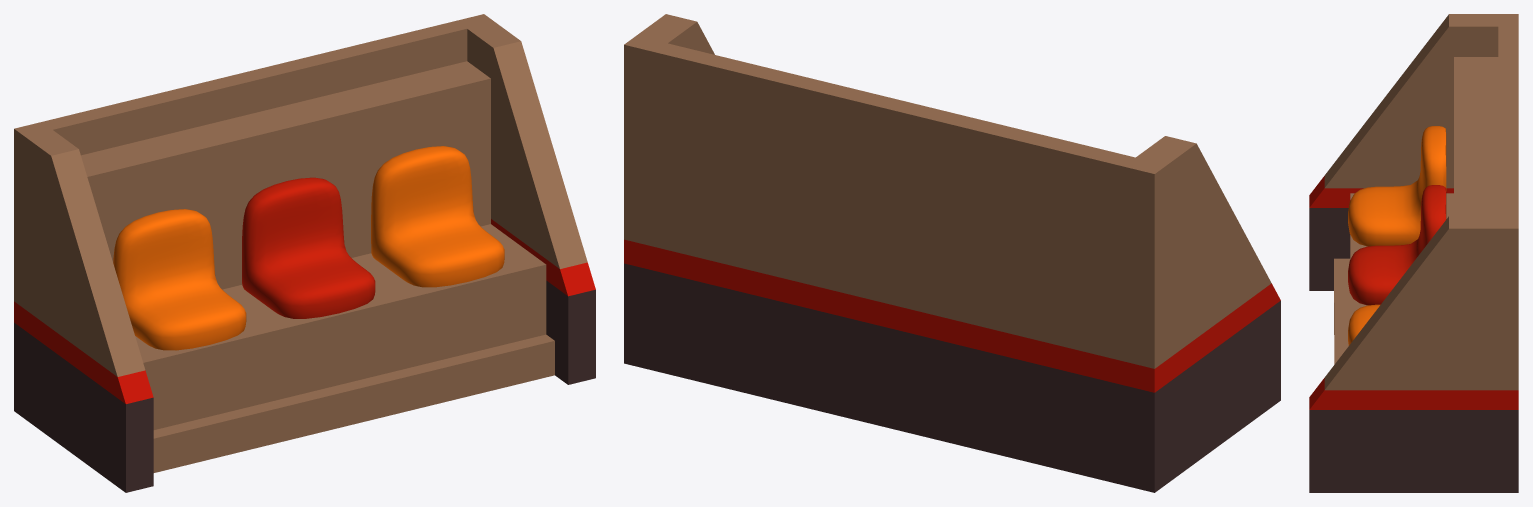
Rendered from Spo_Chairs 2.fbx.
The picture shows the model from 3 angles, left to right: view 1: azimuth 30°, elevation 25°; view 2: azimuth 150°, elevation 25°; view 3: azimuth 270°, elevation 25°; orthographic projection. The views are drawn at different scales.
Parts seen in each view (by area): view 1: Cube.001; view 2: Cube.001; view 3: Cube.001.
Part boxes in pixels (bbox=[...]): Cube.001: bbox=[14, 14, 595, 492]; Cube.001: bbox=[624, 14, 1280, 492]; Cube.001: bbox=[1309, 14, 1518, 492].
Size of the model in its own units: 305 by 126 by 175.
